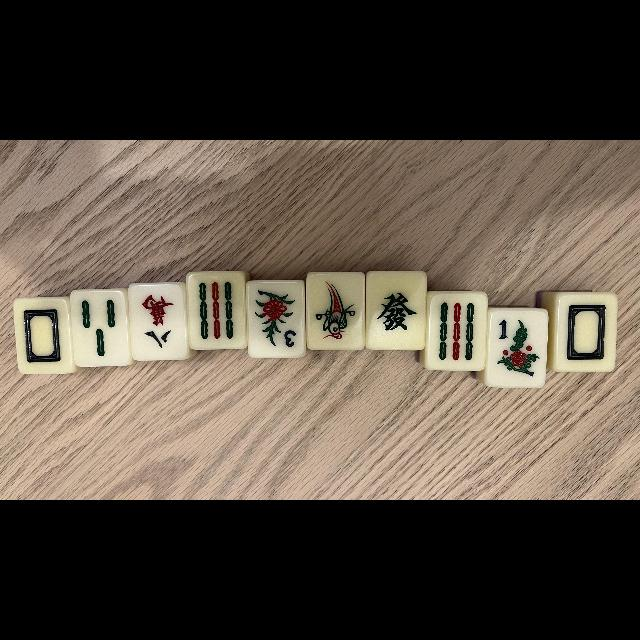b1: (307, 274, 363, 348)
b3: (72, 291, 128, 365)
b9: (429, 292, 485, 368), (189, 273, 245, 347)
c8: (131, 285, 187, 359)
dg: (368, 272, 424, 348)
dw: (557, 295, 613, 371), (17, 300, 72, 372)
f1-s: (490, 309, 544, 386)
f3-s: (248, 281, 304, 357)
